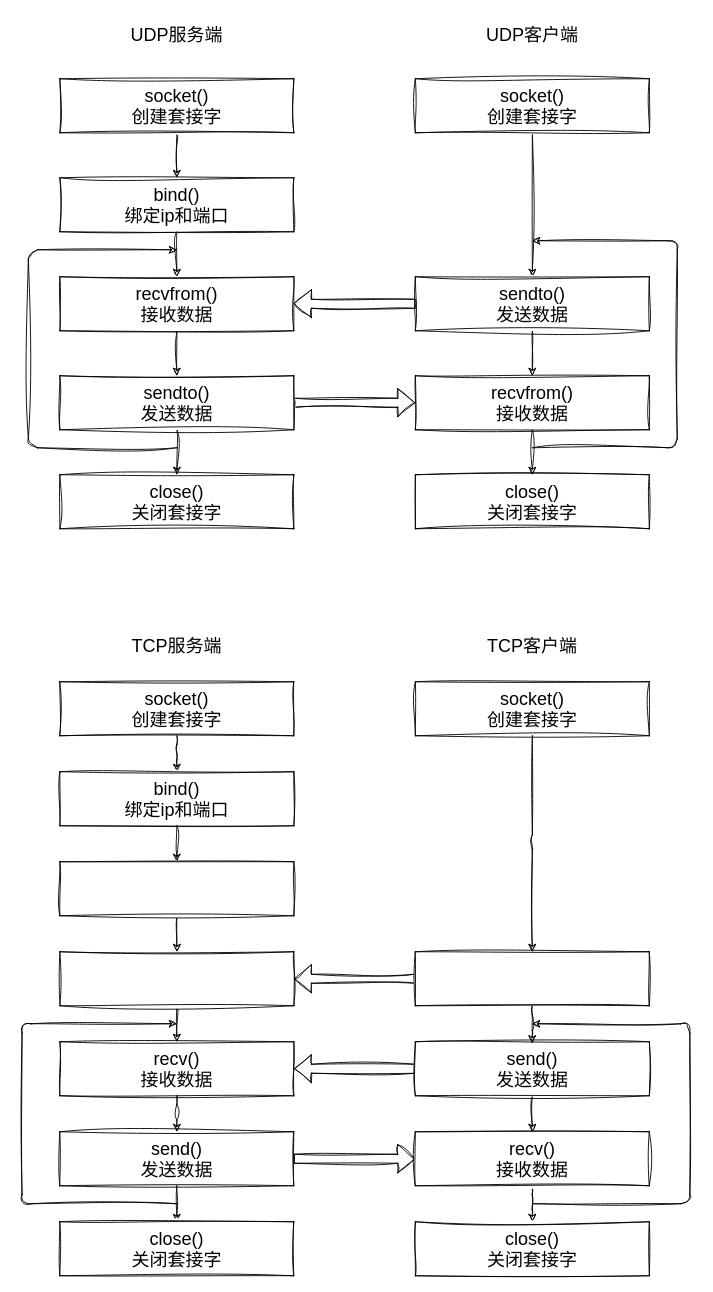
Some shapes in this 713 by 1292 pixel diagram are drawn without their labels. Here are the shapes that lost their labels. From the top down, the centre of each, then its label:
At point (176, 888): "listen() 设置监听".
At point (176, 978): "accept() 等待客户端连接".
At point (531, 978): "connect() 连接服务器".
